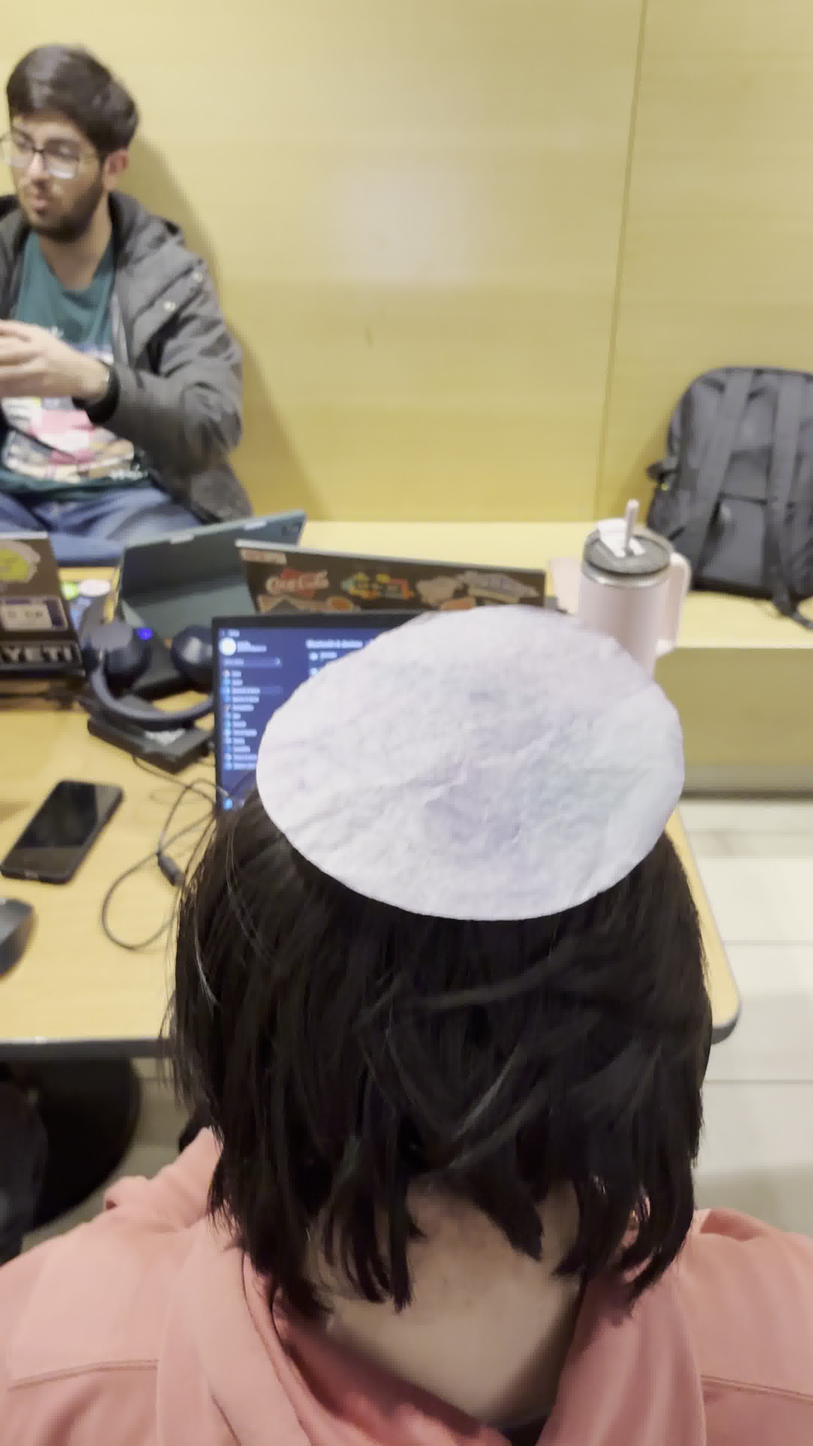Target: (256, 602, 684, 921)
